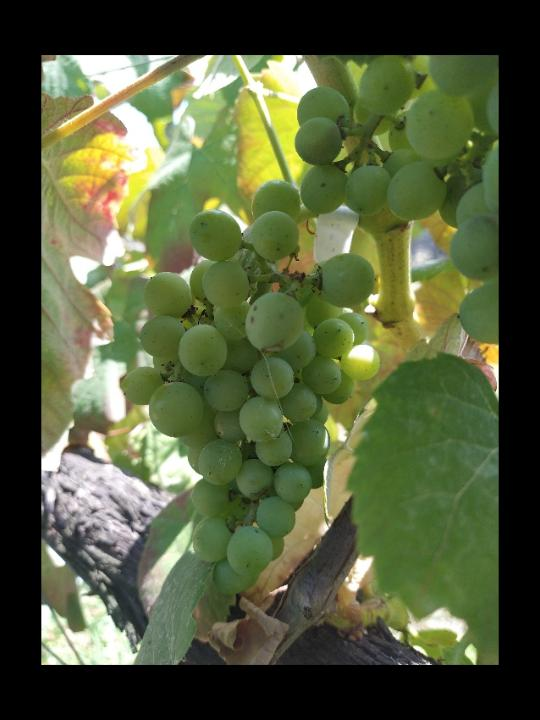grape: (119, 179, 378, 597)
